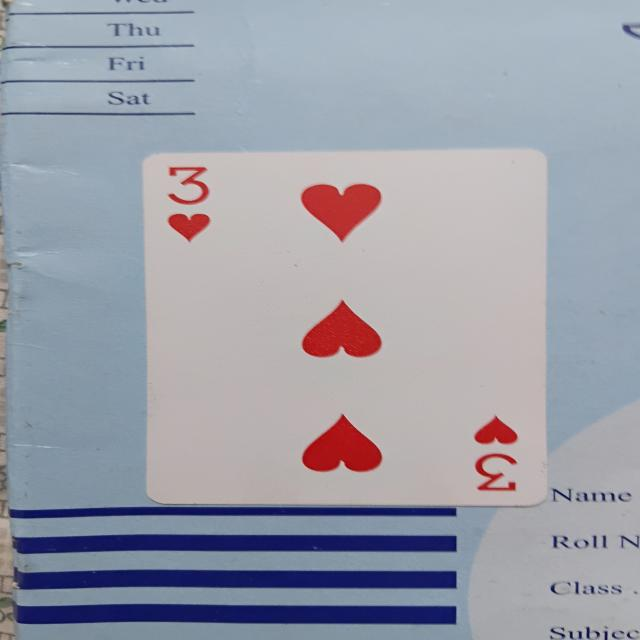3H: (134, 146, 557, 519)
